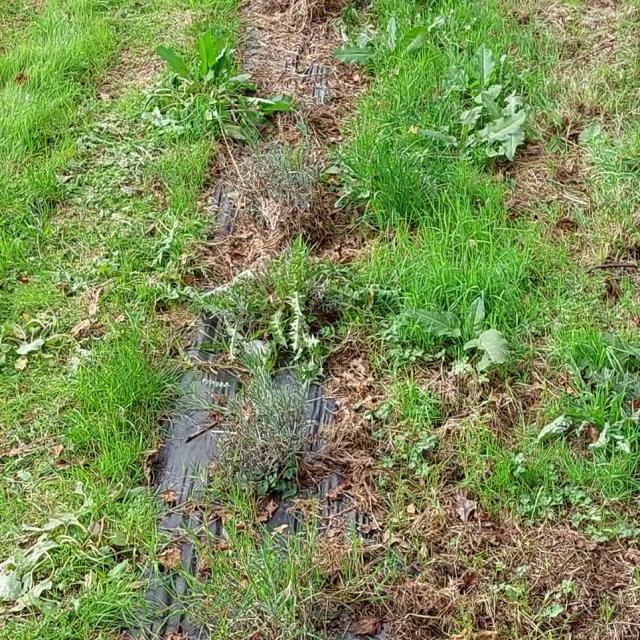organic waste: (162, 33, 266, 139), (411, 282, 518, 378), (4, 508, 106, 603), (0, 295, 104, 386), (462, 80, 550, 171), (334, 5, 447, 70), (431, 40, 518, 113), (418, 94, 496, 168)
